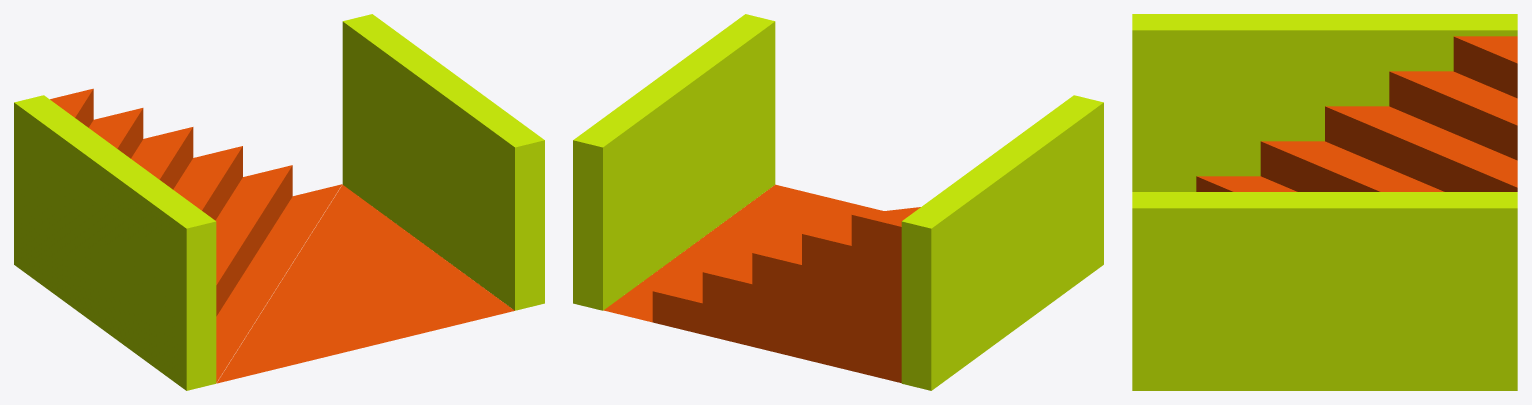
3 views of the same model, side by side, from view 1: azimuth 30°, elevation 25°; view 2: azimuth 150°, elevation 25°; view 3: azimuth 270°, elevation 25° (orthographic). The views are drawn at different scales.
Parts seen in each view (by area): view 1: T_2_a_0; view 2: T_2_a_0; view 3: T_2_a_0.
Boxes of the visible parts, box(x1,y1,x2,y2) form: T_2_a_0: box(14, 14, 544, 390); T_2_a_0: box(573, 14, 1103, 390); T_2_a_0: box(1132, 14, 1517, 390).
Bounding box in the file's own units: 120 × 52.15 × 99.81.
